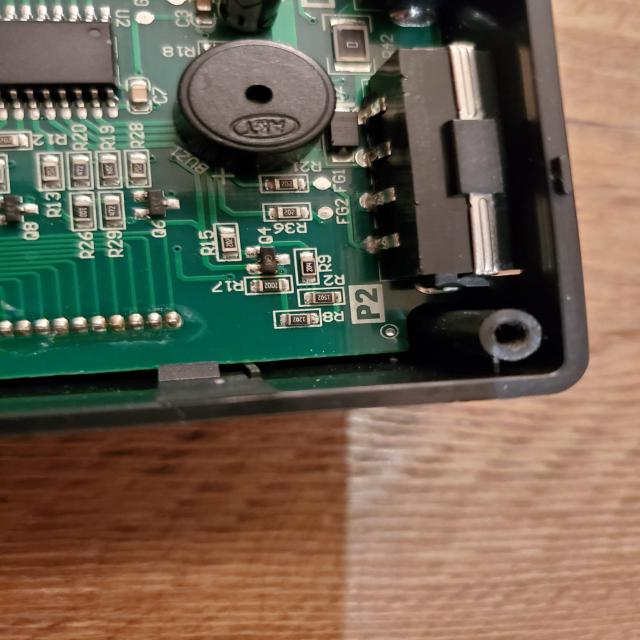4439: (1, 194, 36, 226), (137, 191, 173, 219), (251, 248, 284, 275)
IC: (0, 7, 124, 108)
buzzer: (173, 35, 331, 155)
capacitor 1V5: (130, 80, 148, 106), (189, 0, 217, 15)
connector -5v-: (367, 47, 513, 290)
diode -D1-: (327, 104, 367, 152)
resistor IR1: (329, 18, 372, 65), (100, 198, 124, 225), (97, 155, 121, 180), (43, 158, 61, 186), (74, 197, 90, 228), (272, 204, 305, 219), (127, 155, 145, 182), (219, 227, 238, 252), (70, 159, 88, 183), (268, 178, 302, 190), (255, 281, 288, 293), (301, 254, 317, 276), (306, 292, 335, 302), (0, 136, 24, 148), (286, 312, 308, 323)
